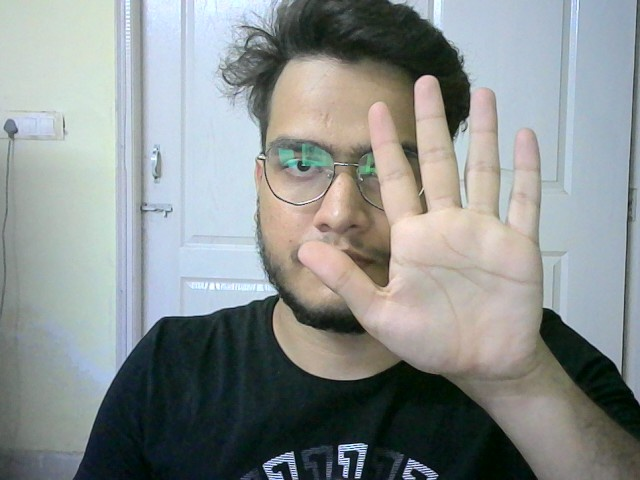Hello: (296, 70, 551, 378)
